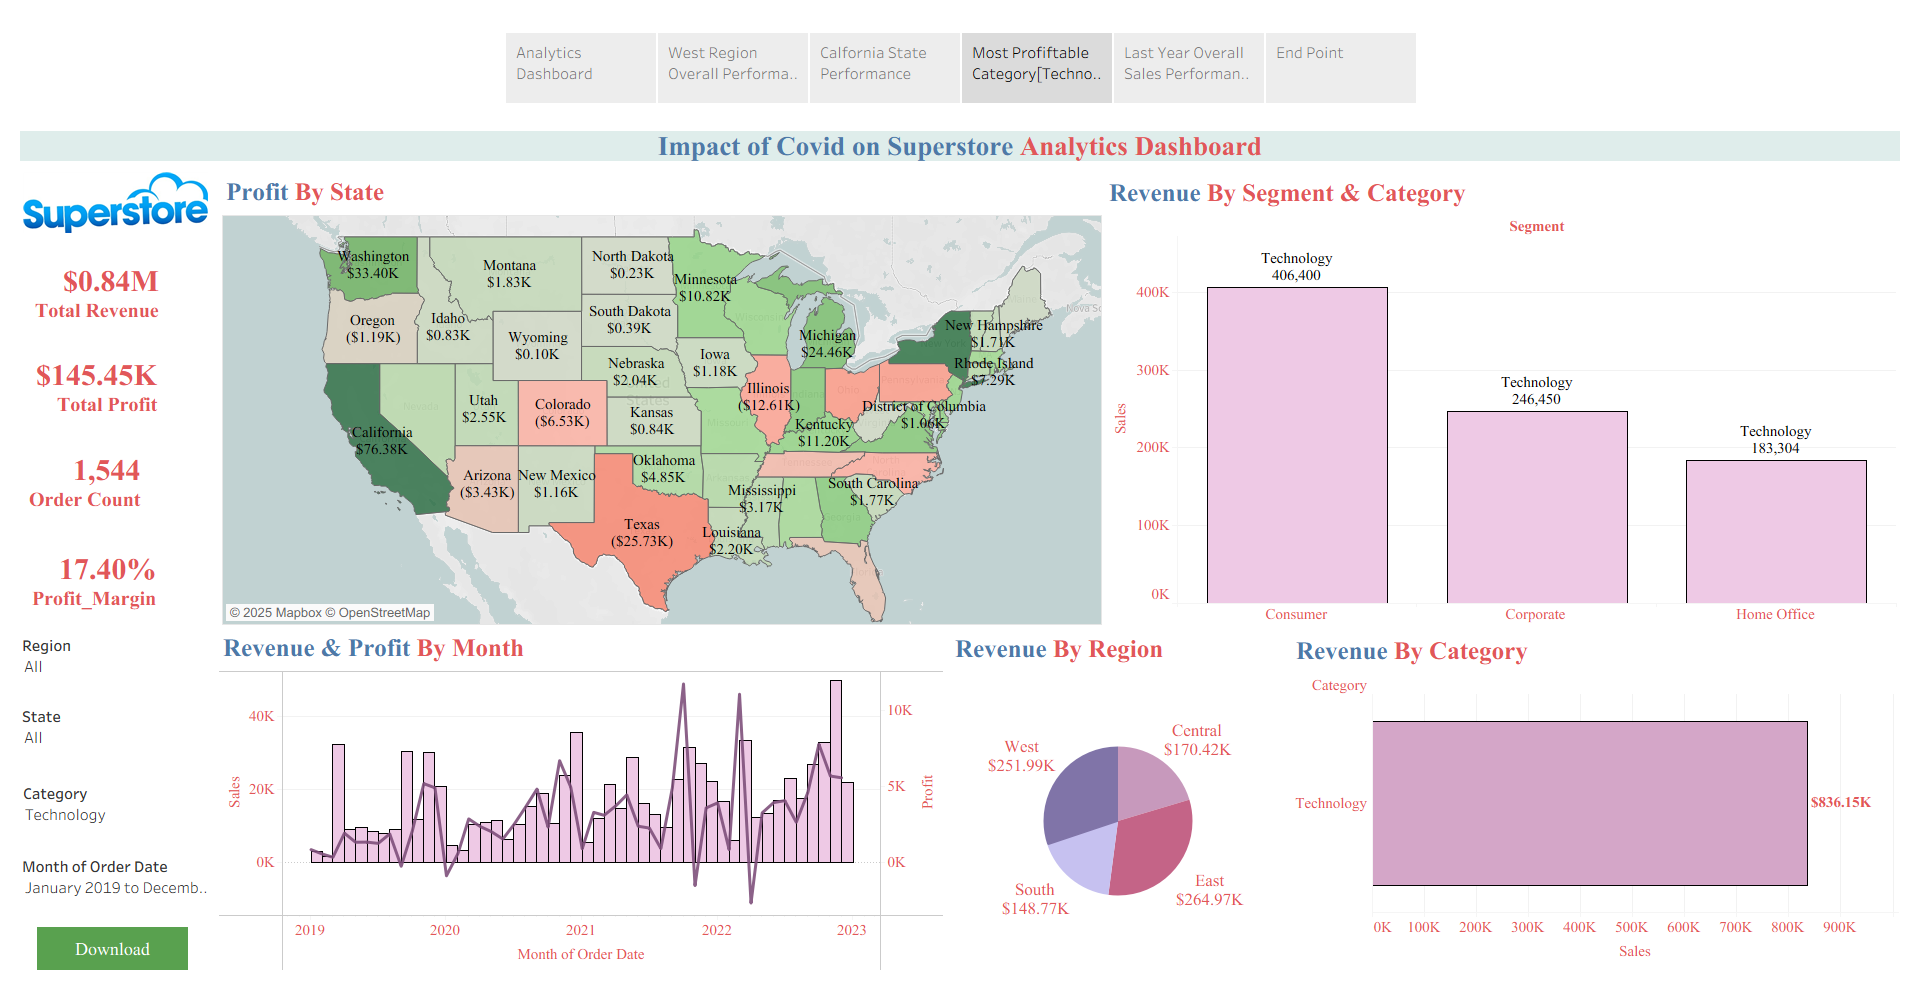

The page's visual inventory and layout, read from the dashboard file:
{"tool":"tableau","page":{"name":"Dashboard","canvas":[1000,1000],"units":"permille","ordinal":0},"visuals":[{"type":"title","box":[4.8,10,990.3,47.4]},{"type":"image","param":"Image/superstore.jpg","box":[7.9,61.2,97.2,83.7]},{"type":"worksheet","title":"State_Profit","mark":"Automatic","box":[112.2,61.2,462.3,523.1]},{"type":"worksheet","title":"Segment_Revenue","mark":"Automatic","rows":["Sales"],"cols":["Segment"],"box":[576.3,62.4,415.2,520.6]},{"type":"worksheet","title":"RevenueCard","mark":"Automatic","box":[7.9,151.1,95.4,101.1]},{"type":"worksheet","title":"ProfitCard","mark":"Automatic","box":[7.2,259.7,95.4,102.4]},{"type":"worksheet","title":"OrderCountCard","mark":"Automatic","box":[7.2,369.5,94.8,96.1]},{"type":"worksheet","title":"ProfitMarginCard","mark":"Automatic","box":[6.6,484.4,94.2,99.9]},{"type":"worksheet","title":"Monthly_Revenue&Profit","mark":"Automatic","rows":["Sales","Profit"],"cols":["Order Date"],"box":[111,588,380.8,395.8]},{"type":"worksheet","title":"Region_Revenue","mark":"Pie","box":[495.5,589.3,175.6,393.3]},{"type":"worksheet","title":"Category_Revenue","mark":"Automatic","rows":["Category"],"cols":["Sales"],"box":[674.1,591.8,318,388.3]},{"type":"filter","title":"Region_Revenue","param":"[federated.1aaiccs02r5n1r194tcw40cy5zjr].[none:Region:nk]","box":[7.2,594.3,98.4,71.2]},{"type":"filter","title":"State_Profit","param":"[federated.1aaiccs02r5n1r194tcw40cy5zjr].[none:State:nk]","box":[7.2,676.6,98.4,73.7]},{"type":"filter","title":"Category_Revenue","param":"[federated.1aaiccs02r5n1r194tcw40cy5zjr].[none:Category:nk]","box":[7.9,765.3,97.8,72.4]},{"type":"filter","title":"Monthly_Revenue&Profit","param":"[federated.1aaiccs02r5n1r194tcw40cy5zjr].[tmn:Order Date:qk]","box":[7.2,850.2,99,71.2]},{"type":"dashboard-object","box":[15.1,932.6,79.7,49.9]}]}

Visuals, with their boxes on the dashboard's canvas, which has no fixed pixel size, in thousandths of its width and height (x1, y1, x2, y2). These are canvas units, not pixel positions in the 1920x993 screenshot, which may show the page scaled, cropped or inside an application window:
title: <region>5, 10, 995, 57</region>
image: <region>8, 61, 105, 145</region>
"State_Profit" worksheet: <region>112, 61, 574, 584</region>
"Segment_Revenue" worksheet: <region>576, 62, 992, 583</region>
"RevenueCard" worksheet: <region>8, 151, 103, 252</region>
"ProfitCard" worksheet: <region>7, 260, 103, 362</region>
"OrderCountCard" worksheet: <region>7, 370, 102, 466</region>
"ProfitMarginCard" worksheet: <region>7, 484, 101, 584</region>
"Monthly_Revenue&Profit" worksheet: <region>111, 588, 492, 984</region>
"Region_Revenue" worksheet (Pie marks): <region>496, 589, 671, 983</region>
"Category_Revenue" worksheet: <region>674, 592, 992, 980</region>
"Region_Revenue" filter: <region>7, 594, 106, 666</region>
"State_Profit" filter: <region>7, 677, 106, 750</region>
"Category_Revenue" filter: <region>8, 765, 106, 838</region>
"Monthly_Revenue&Profit" filter: <region>7, 850, 106, 921</region>
dashboard-object: <region>15, 933, 95, 982</region>
